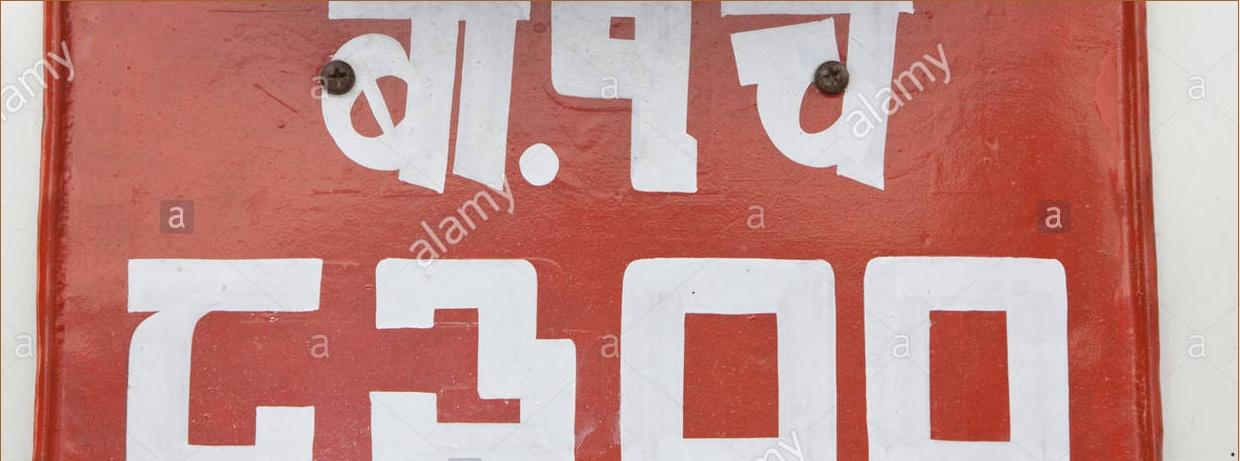0: (607, 238, 850, 461), (855, 236, 1089, 461)
1: (538, 1, 715, 208)
3: (353, 239, 594, 461)
8: (94, 241, 340, 461)
ba: (308, 1, 541, 207)
cha: (713, 2, 933, 210)
